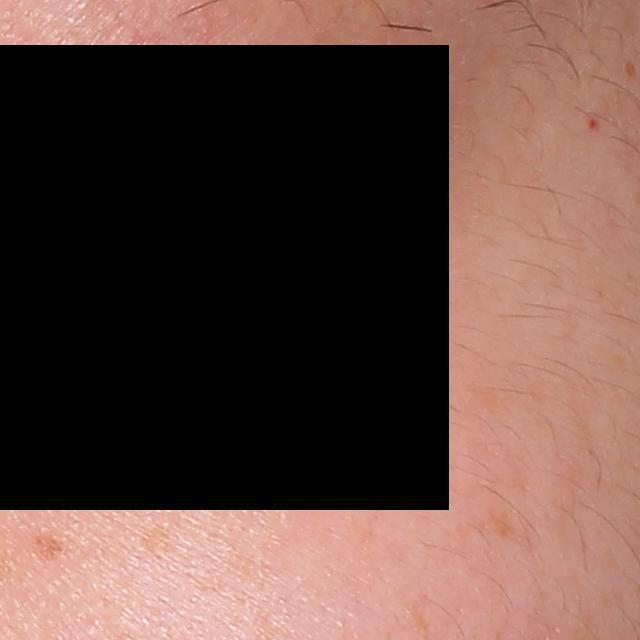melasma: (405, 585, 437, 635), (136, 522, 180, 557), (24, 531, 67, 566), (485, 506, 518, 541)
